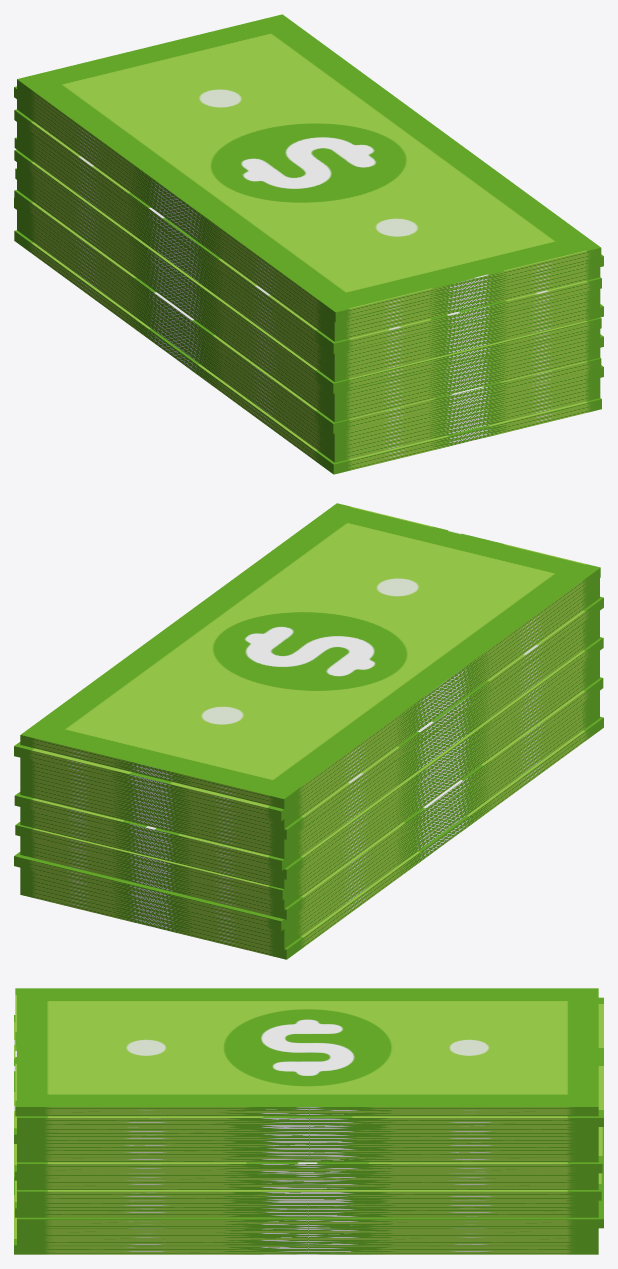
The model's file is orangespor_car.fbx.
3 views of the same model, one above another, from view 1: azimuth 30°, elevation 25°; view 2: azimuth 150°, elevation 25°; view 3: azimuth 270°, elevation 25° (orthographic). The views are drawn at different scales.
Visible parts, largest first — view 1: Box1042_s_001_s_001, Box1042_s_003_s_002, Box1042_s_001_s_002, Box1042_s_003_s_001; view 2: Box1042_s_003_s_002, Box1042_s_001_s_001, Box1042_s_003_s_001, Box1042_s_001_s_002; view 3: Box1042_s_001_s_001, Box1042_s_003_s_002, Box1042_s_001_s_002, Box1042_s_003_s_001.
Part boxes in pixels (x1,y1,x2,y2): Box1042_s_001_s_001: [251, 188, 603, 474]; Box1042_s_003_s_002: [14, 14, 361, 298]; Box1042_s_001_s_002: [172, 130, 519, 414]; Box1042_s_003_s_001: [93, 72, 439, 356]; Box1042_s_003_s_002: [14, 677, 365, 959]; Box1042_s_001_s_001: [256, 503, 603, 786]; Box1042_s_003_s_001: [99, 620, 443, 901]; Box1042_s_001_s_002: [178, 562, 522, 843]; Box1042_s_001_s_001: [14, 988, 164, 1254]; Box1042_s_003_s_002: [454, 988, 603, 1254]; Box1042_s_001_s_002: [164, 988, 308, 1254]; Box1042_s_003_s_001: [309, 988, 453, 1254].
Size of the model in its own units: 227 by 129 by 466.
